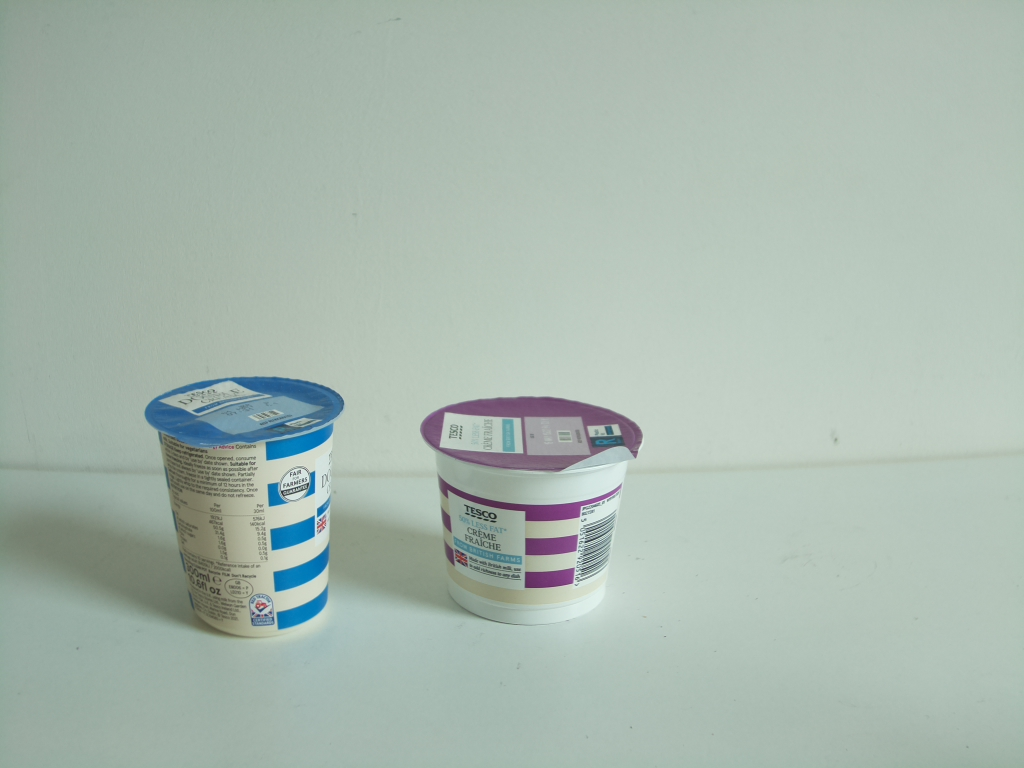cream: (147, 375, 347, 638), (419, 396, 642, 626)
